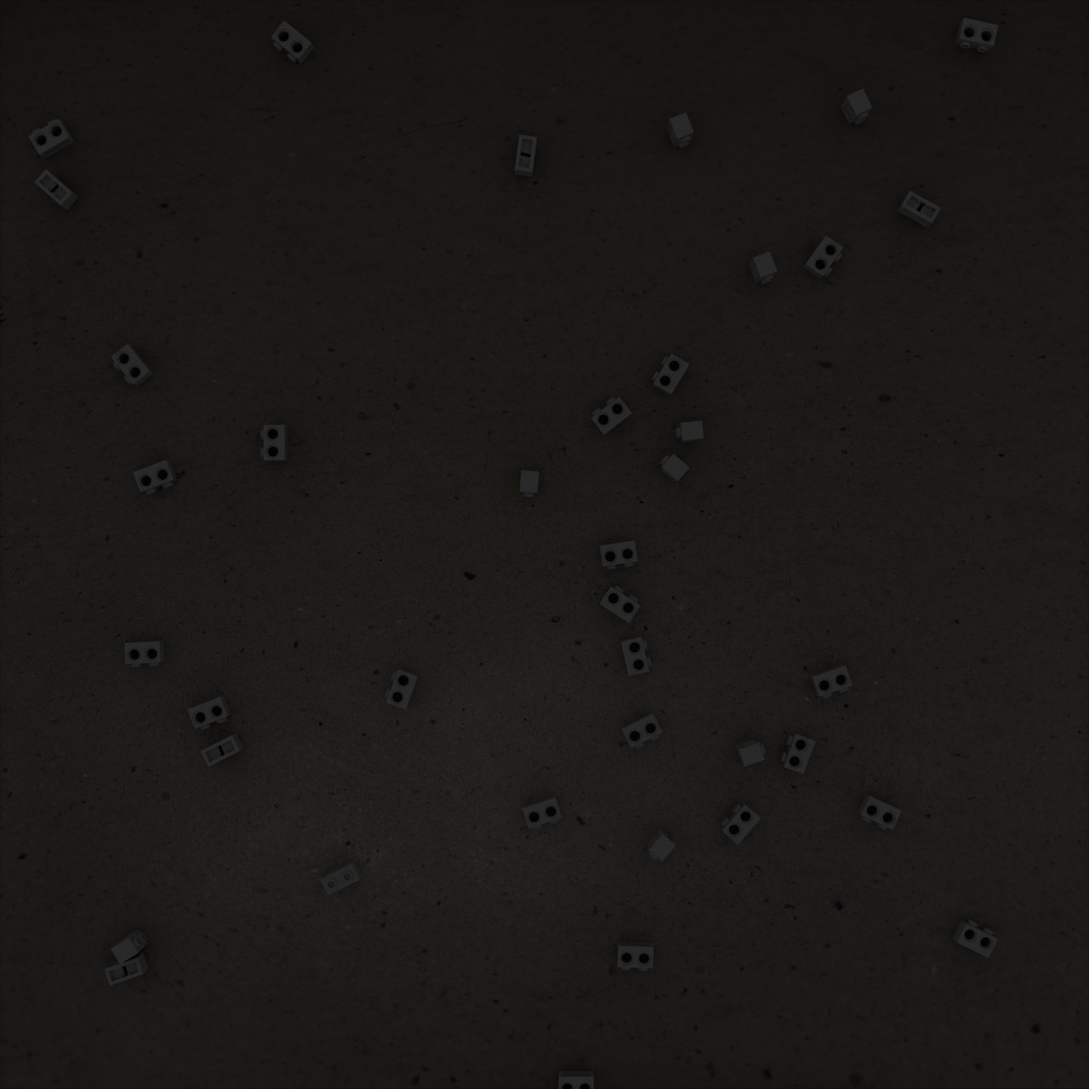lego: (271, 20, 314, 65), (28, 119, 75, 159), (34, 169, 79, 210), (111, 344, 154, 386), (952, 919, 998, 958), (720, 802, 761, 845), (803, 235, 843, 279), (651, 353, 690, 396), (897, 190, 941, 228), (857, 793, 902, 830), (591, 396, 632, 436), (599, 585, 641, 623), (133, 460, 178, 495), (621, 712, 663, 749), (809, 664, 853, 699), (187, 695, 231, 730), (104, 952, 149, 986), (320, 860, 362, 896), (780, 732, 816, 774), (200, 733, 244, 767), (384, 668, 419, 710), (955, 18, 998, 52), (522, 795, 562, 830), (110, 929, 147, 964), (620, 636, 652, 676), (840, 88, 872, 125), (599, 540, 638, 570), (617, 941, 654, 971), (124, 640, 165, 667), (646, 827, 676, 862), (260, 425, 288, 461), (748, 251, 777, 285), (667, 112, 694, 148), (734, 738, 766, 767), (515, 135, 537, 177), (659, 454, 690, 483), (558, 1071, 594, 1089), (675, 421, 704, 443), (520, 470, 539, 497)
